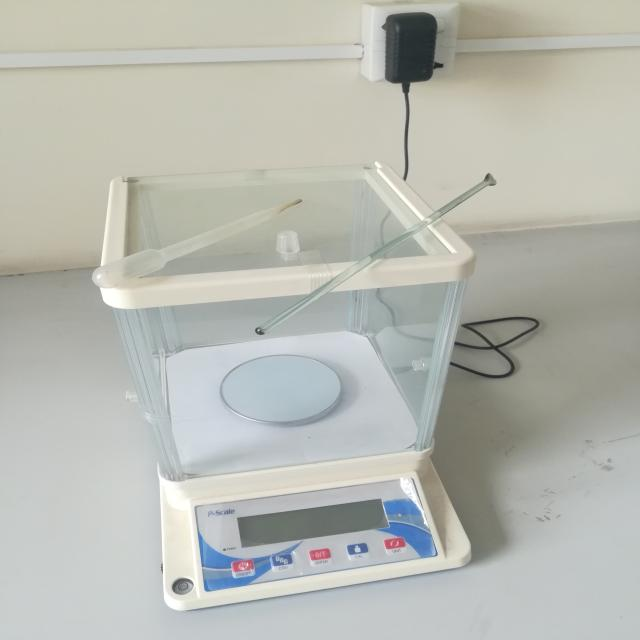Glass_Rod: (239, 160, 542, 347)
Pipette: (72, 186, 334, 296)
